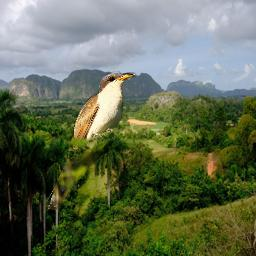Cuckoo: (43, 69, 138, 213)
